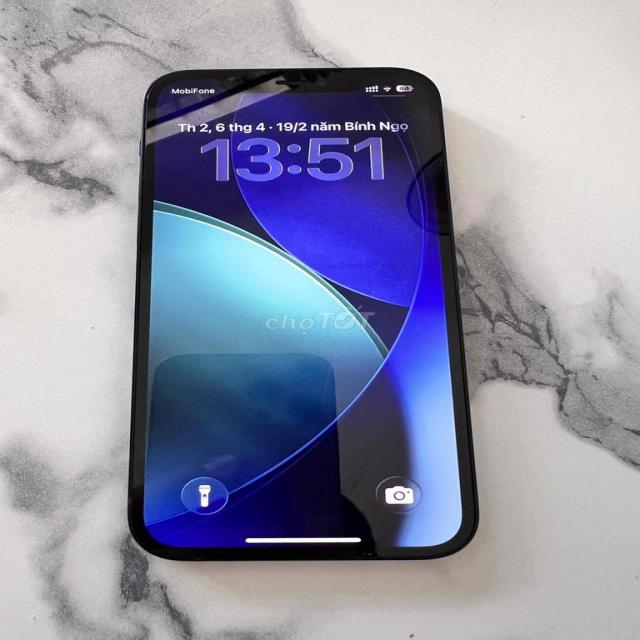gen_12_13: (126, 67, 482, 564)
